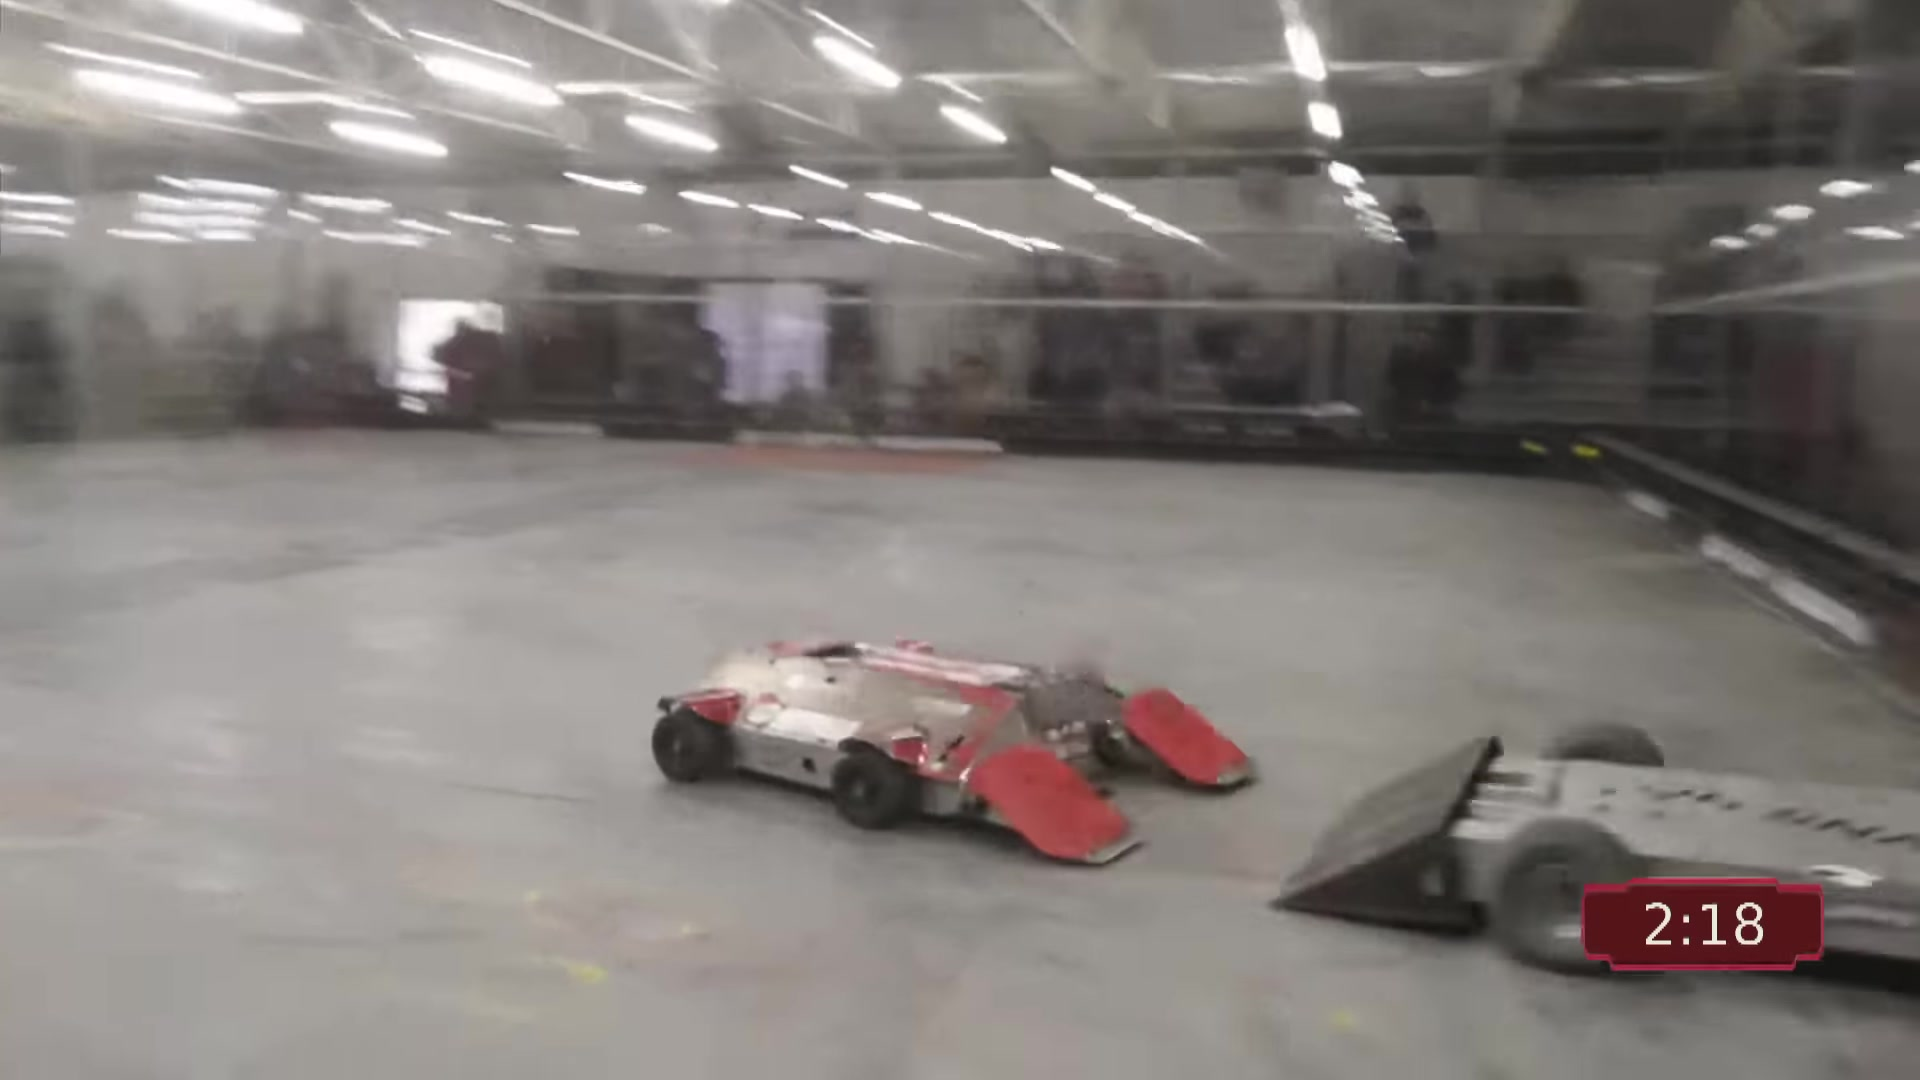combatbot: (1266, 717, 1920, 976), (645, 633, 1257, 866)
